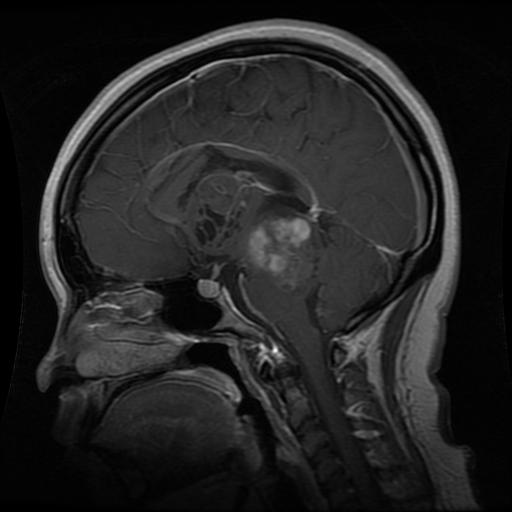Gliomia_tumour: (250, 214, 313, 300)
